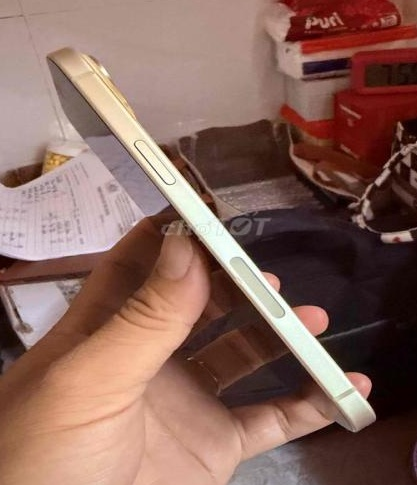physical_damage: (231, 271, 244, 286)
